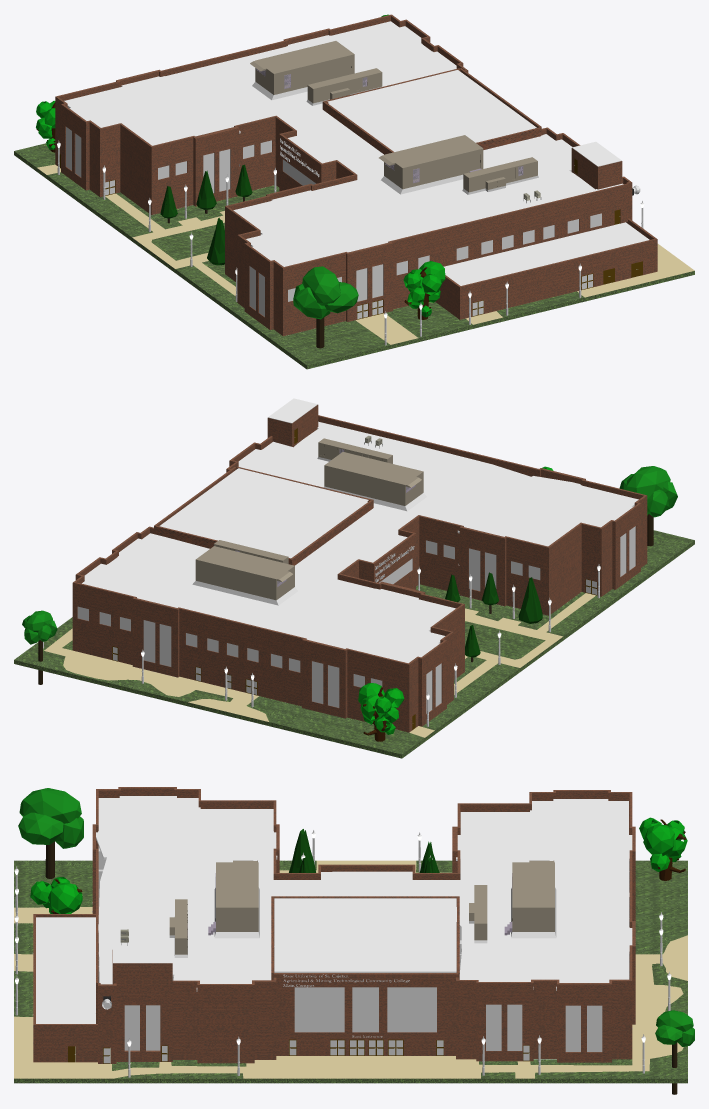
File: College.glb
3 views of the same model, one above another, from view 1: azimuth 30°, elevation 25°; view 2: azimuth 150°, elevation 25°; view 3: azimuth 270°, elevation 25° (orthographic). The views are drawn at different scales.
Visible parts, largest first — view 1: Roof, Walls, Ground, DOAS, Windows, Leaves.001, RTU, Leaves, Gym Walls, Doors, Street Posts, Roof High (+1 smaller); view 2: Roof, Walls, Ground, DOAS, Windows, Leaves.001, Gym Walls, Leaves, RTU, Street Posts, Doors, Trunk.004 (+1 smaller); view 3: Roof, Walls, Ground, Leaves.001, DOAS, Gym Windows, Windows, Doors, RTU, Street Posts, Gym Walls, Leaves (+3 smaller).
Part boxes in pixels (box(x1,y1,x2,y2)): Roof: box(64, 21, 649, 285); Walls: box(55, 14, 657, 336); Ground: box(14, 143, 694, 369); DOAS: box(250, 41, 483, 194); Windows: box(66, 127, 601, 316); Leaves.001: box(36, 14, 445, 319); RTU: box(306, 68, 538, 194); Leaves: box(160, 164, 252, 265); Gym Walls: box(322, 68, 540, 154); Doors: box(59, 154, 642, 319); Street Posts: box(57, 140, 644, 345); Roof High: box(572, 141, 621, 166); Roof: box(82, 421, 638, 663); Walls: box(72, 405, 647, 732); Ground: box(14, 530, 694, 758); DOAS: box(192, 452, 426, 605); Windows: box(77, 526, 635, 713); Leaves.001: box(22, 466, 677, 734); Gym Walls: box(155, 466, 373, 565); Leaves: box(445, 572, 542, 657); RTU: box(214, 438, 392, 563); Street Posts: box(43, 564, 600, 726); Doors: box(112, 428, 597, 729); Trunk.004: box(38, 514, 653, 741); Roof: box(36, 796, 632, 1023); Walls: box(33, 787, 635, 1063); Ground: box(14, 860, 687, 1083); Leaves.001: box(18, 788, 694, 1046); DOAS: box(208, 860, 556, 938); Gym Windows: box(294, 987, 436, 1032); Windows: box(124, 1004, 602, 1051); Doors: box(32, 902, 632, 1063); RTU: box(169, 885, 487, 957); Street Posts: box(14, 830, 671, 1077); Gym Walls: box(271, 896, 459, 980); Leaves: box(289, 829, 439, 872).
Size of what is drawn, in the model's own units: 60.96 by 16.72 by 80.49.
29 materials, 2 textured.
